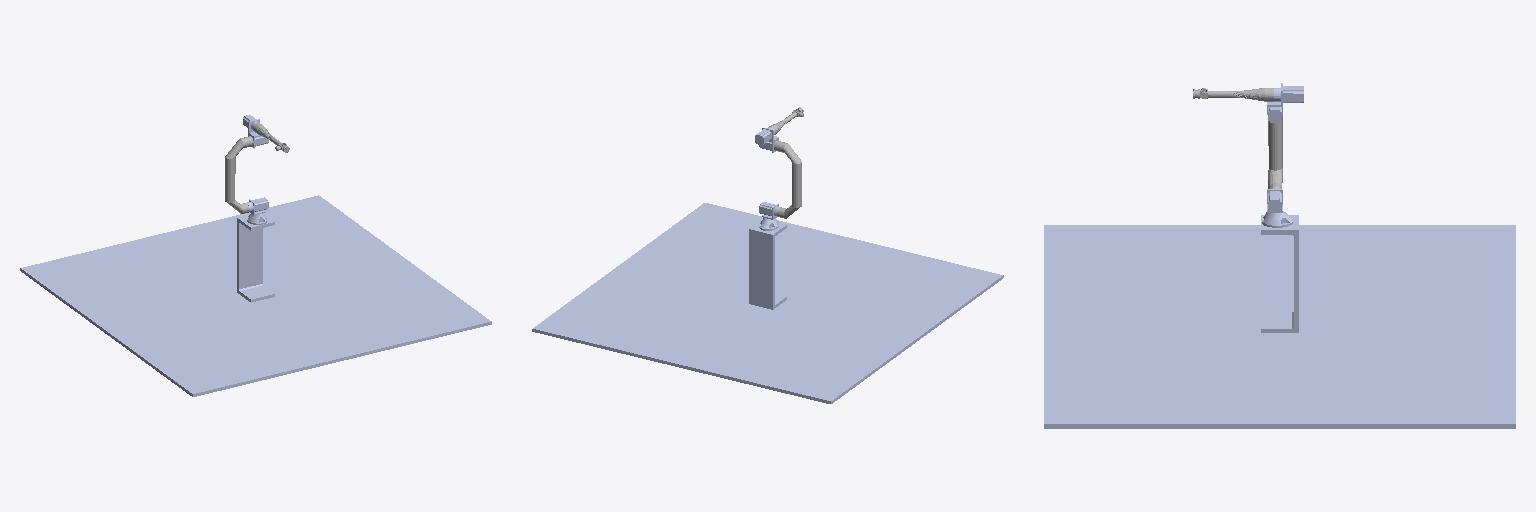
The robot description file, URDF, robot "robot_2":
<?xml version="1.0" encoding="utf-8"?>
<!-- This URDF was automatically created by SolidWorks to URDF Exporter! Originally created by [author] ([email redacted]) 
     Commit Version: 1.6.0-1-g15f4949  Build Version: 1.6.7594.29634
     For more information, please see http://wiki.ros.org/sw_urdf_exporter -->
<robot
  name="robot_2">
  <link
    name="dummy_link">
  </link>
  <joint
    name="dummy_joint"
    type="fixed">
    <parent
      link="dummy_link" />
    <child
      link="base_link" />
  </joint>
  <link
    name="base_link">
    <inertial>
      <origin
        xyz="0.199991524201748 0.0978846512027021 -1.15089239456676"
        rpy="0 0 0" />
      <mass
        value="1285.77081081309" />
      <inertia
        ixx="2612.41695533956"
        ixy="0.000129752526662198"
        ixz="-5.93323683944549E-06"
        iyy="2612.41595630757"
        iyz="0.000881741481822259"
        izz="5209.18326558497" />
    </inertial>
    <visual>
      <origin
        xyz="0 0 0"
        rpy="0 0 0" />
      <geometry>
        <mesh
          filename="package://robot_2/meshes/base_link.STL" />
      </geometry>
      <material
        name="">
        <color
          rgba="0.792156862745098 0.819607843137255 0.933333333333333 1" />
      </material>
    </visual>
    <collision>
      <origin
        xyz="0 0 0"
        rpy="0 0 0" />
      <geometry>
        <mesh
          filename="package://robot_2/meshes/base_link.STL" />
      </geometry>
    </collision>
  </link>
  <link
    name="link_1">
    <inertial>
      <origin
        xyz="0.00142781025541766 0.152650359233773 -5.03325046305667E-05"
        rpy="0 0 0" />
      <mass
        value="0.0717007293382213" />
      <inertia
        ixx="0.0426432231205356"
        ixy="-0.000893692047635503"
        ixz="-5.25646044606028E-05"
        iyy="0.0517783075494645"
        iyz="9.87014974898117E-06"
        izz="0.0695152473459704" />
    </inertial>
    <visual>
      <origin
        xyz="0 0 0"
        rpy="0 0 0" />
      <geometry>
        <mesh
          filename="package://robot_2/meshes/link_1.STL" />
      </geometry>
      <material
        name="">
        <color
          rgba="0.792156862745098 0.819607843137255 0.933333333333333 1" />
      </material>
    </visual>
    <collision>
      <origin
        xyz="0 0 0"
        rpy="0 0 0" />
      <geometry>
        <mesh
          filename="package://robot_2/meshes/link_1.STL" />
      </geometry>
    </collision>
  </link>
  <joint
    name="joint_0"
    type="revolute">
    <origin
      xyz="0.197975434414304 0.0409754135850279 0.125"
      rpy="1.5707963267949 0 -0.0141961646811652" />
    <parent
      link="base_link" />
    <child
      link="link_1" />
    <axis
      xyz="0 1 0" />
    <limit
      lower="-3.14159265359"
      upper="3.14159265359"
      effort="10"
      velocity="1" />
  </joint>
  <link
    name="link_2">
    <inertial>
      <origin
        xyz="-0.278731912490386 0.511249853624414 8.82448619378418E-07"
        rpy="0 0 0" />
      <mass
        value="0.233631192418631" />
      <inertia
        ixx="3.09285528152063"
        ixy="0.0765152499316044"
        ixz="-5.58945952408227E-06"
        iyy="0.297247362416465"
        iyz="-4.12461858751302E-06"
        izz="3.32441305908094" />
    </inertial>
    <visual>
      <origin
        xyz="0 0 0"
        rpy="0 0 0" />
      <geometry>
        <mesh
          filename="package://robot_2/meshes/link_2.STL" />
      </geometry>
      <material
        name="">
        <color
          rgba="0.752941176470588 0.752941176470588 0.752941176470588 1" />
      </material>
    </visual>
    <collision>
      <origin
        xyz="0 0 0"
        rpy="0 0 0" />
      <geometry>
        <mesh
          filename="package://robot_2/meshes/link_2.STL" />
      </geometry>
    </collision>
  </link>
  <joint
    name="joint_1"
    type="revolute">
    <origin
      xyz="-0.102812251110332 0.179999999999999 -0.000938466230171721"
      rpy="0.00101470073495633 0 0" />
    <parent
      link="link_1" />
    <child
      link="link_2" />
    <axis
      xyz="1 0 0" />
    <limit
      lower="-3.14159265359"
      upper="3.14159265359"
      effort="10"
      velocity="1" />
  </joint>
  <link
    name="link_3">
    <inertial>
      <origin
        xyz="0.0942424116828724 -0.0912703762905391 0.0789384775224746"
        rpy="0 0 0" />
      <mass
        value="0.124367864669111" />
      <inertia
        ixx="0.266028922703057"
        ixy="0.00504883652920089"
        ixz="-0.00553010454728796"
        iyy="0.199765624426901"
        iyz="0.0959423495012982"
        izz="0.186445581672395" />
    </inertial>
    <visual>
      <origin
        xyz="0 0 0"
        rpy="0 0 0" />
      <geometry>
        <mesh
          filename="package://robot_2/meshes/link_3.STL" />
      </geometry>
      <material
        name="">
        <color
          rgba="0.792156862745098 0.819607843137255 0.933333333333333 1" />
      </material>
    </visual>
    <collision>
      <origin
        xyz="0 0 0"
        rpy="0 0 0" />
      <geometry>
        <mesh
          filename="package://robot_2/meshes/link_3.STL" />
      </geometry>
    </collision>
  </link>
  <joint
    name="joint_2"
    type="revolute">
    <origin
      xyz="0 1.05 0"
      rpy="3.13905468566407 0 0" />
    <parent
      link="link_2" />
    <child
      link="link_3" />
    <axis
      xyz="1 0 0" />
    <limit
      lower="-3.14159265359"
      upper="3.14159265359"
      effort="10"
      velocity="1" />
  </joint>
  <link
    name="link_4">
    <inertial>
      <origin
        xyz="-0.00228068068821607 1.26202119865582E-08 0.241112113607335"
        rpy="0 0 0" />
      <mass
        value="0.0712637915434058" />
      <inertia
        ixx="0.40357161895299"
        ixy="-7.77150489666667E-09"
        ixz="0.00833710139137273"
        iyy="0.405044789096908"
        iyz="-2.69191660979703E-08"
        izz="0.0140999712772067" />
    </inertial>
    <visual>
      <origin
        xyz="0 0 0"
        rpy="0 0 0" />
      <geometry>
        <mesh
          filename="package://robot_2/meshes/link_4.STL" />
      </geometry>
      <material
        name="">
        <color
          rgba="0.752941176470588 0.752941176470588 0.752941176470588 1" />
      </material>
    </visual>
    <collision>
      <origin
        xyz="0 0 0"
        rpy="0 0 0" />
      <geometry>
        <mesh
          filename="package://robot_2/meshes/link_4.STL" />
      </geometry>
    </collision>
  </link>
  <joint
    name="joint_3"
    type="revolute">
    <origin
      xyz="0.10031225111033 -0.19 0"
      rpy="-3.14159265358979 0 -0.0555199606814492" />
    <parent
      link="link_3" />
    <child
      link="link_4" />
    <axis
      xyz="0 0 1" />
    <limit
      lower="-3.14159265359"
      upper="3.14159265359"
      effort="10"
      velocity="1" />
  </joint>
  <link
    name="link_5">
    <inertial>
      <origin
        xyz="0 -2.22044604925031E-16 0.0535037023046382"
        rpy="0 0 0" />
      <mass
        value="0.00410143744348641" />
      <inertia
        ixx="0.000501282840980911"
        ixy="-5.1016364279208E-20"
        ixz="-3.02814278643412E-19"
        iyy="0.000469194860812957"
        iyz="-1.48336644887909E-19"
        izz="0.000392262342255872" />
    </inertial>
    <visual>
      <origin
        xyz="0 0 0"
        rpy="0 0 0" />
      <geometry>
        <mesh
          filename="package://robot_2/meshes/link_5.STL" />
      </geometry>
      <material
        name="">
        <color
          rgba="0.752941176470588 0.752941176470588 0.752941176470588 1" />
      </material>
    </visual>
    <collision>
      <origin
        xyz="0 0 0"
        rpy="0 0 0" />
      <geometry>
        <mesh
          filename="package://robot_2/meshes/link_5.STL" />
      </geometry>
    </collision>
  </link>
  <joint
    name="joint_4"
    type="revolute">
    <origin
      xyz="0 0 0.754061533769819"
      rpy="0.00370741492416739 0 0" />
    <parent
      link="link_4" />
    <child
      link="link_5" />
    <axis
      xyz="1 0 0" />
    <limit
      lower="-3.14159265359"
      upper="3.14159265359"
      effort="10"
      velocity="1" />
  </joint>
  <link
    name="link_6">
    <inertial>
      <origin
        xyz="1.85962356624714E-15 4.44089209850063E-16 0.0269596620158578"
        rpy="0 0 0" />
      <mass
        value="0.00155499520551161" />
      <inertia
        ixx="0.0001031660616218"
        ixy="-2.79218951670337E-20"
        ixz="-2.72215213423851E-19"
        iyy="0.0001031660616218"
        iyz="-3.85241172323096E-19"
        izz="0.000183713178135651" />
    </inertial>
    <visual>
      <origin
        xyz="0 0 0"
        rpy="0 0 0" />
      <geometry>
        <mesh
          filename="package://robot_2/meshes/link_6.STL" />
      </geometry>
      <material
        name="">
        <color
          rgba="0.752941176470588 0.752941176470588 0.752941176470588 1" />
      </material>
    </visual>
    <collision>
      <origin
        xyz="0 0 0"
        rpy="0 0 0" />
      <geometry>
        <mesh
          filename="package://robot_2/meshes/link_6.STL" />
      </geometry>
    </collision>
  </link>
  <joint
    name="joint_5"
    type="revolute">
    <origin
      xyz="0 0 0.0750579213471817"
      rpy="0 0 -0.301733782140017" />
    <parent
      link="link_5" />
    <child
      link="link_6" />
    <axis
      xyz="0 0 1" />
    <limit
      lower="-3.14159265359"
      upper="3.14159265359"
      effort="10"
      velocity="1" />
  </joint>
  <transmission name="joint_0_trans">
    <type>transmission_interface/SimpleTransmission</type>
    <joint name="joint_0" >
      <hardwareInterface>hardware_interface/EffortJointInterface</hardwareInterface>
    </joint>
    <actuator name="joint_0_motor">
      <mechanicalReduction>2</mechanicalReduction>
    </actuator>    
  </transmission>
  <transmission name="joint_1_trans">
    <type>transmission_interface/SimpleTransmission</type>
    <joint name="joint_1" >
      <hardwareInterface>hardware_interface/EffortJointInterface</hardwareInterface>
    </joint>
    <actuator name="joint_1_motor">
      <mechanicalReduction>2</mechanicalReduction>
    </actuator>    
  </transmission>
  <transmission name="joint_2_trans">
    <type>transmission_interface/SimpleTransmission</type>
    <joint name="joint_2" >
      <hardwareInterface>hardware_interface/EffortJointInterface</hardwareInterface>
    </joint>
    <actuator name="joint_2_motor">
      <mechanicalReduction>2</mechanicalReduction>
    </actuator>    
  </transmission>
  <transmission name="joint_3_trans">
    <type>transmission_interface/SimpleTransmission</type>
    <joint name="joint_3" >
      <hardwareInterface>hardware_interface/EffortJointInterface</hardwareInterface>
    </joint>
    <actuator name="joint_3_motor">
      <mechanicalReduction>2</mechanicalReduction>
    </actuator>    
  </transmission>
  <transmission name="joint_4_trans">
    <type>transmission_interface/SimpleTransmission</type>
    <joint name="joint_4" >
      <hardwareInterface>hardware_interface/EffortJointInterface</hardwareInterface>
    </joint>
    <actuator name="joint_4_motor">
      <mechanicalReduction>2</mechanicalReduction>
    </actuator>    
  </transmission>
  <transmission name="joint_5_trans">
    <type>transmission_interface/SimpleTransmission</type>
    <joint name="joint_5" >
      <hardwareInterface>hardware_interface/EffortJointInterface</hardwareInterface>
    </joint>
    <actuator name="joint_5_motor">
      <mechanicalReduction>2</mechanicalReduction>
    </actuator>    
  </transmission>

  <gazebo>
		<plugin name="gazebo_ros_control" filename="libgazebo_ros_control.so">
			<robotNamespace>/robot_2</robotNamespace>
			<!-- <robotSimType>gazebo_ros_control/DefaultRobotHWSim</robotSimType> -->
			<legacyModeNS>true</legacyModeNS>
		</plugin>
	</gazebo>
</robot>

--- Render facts (derived) ---
The picture shows the robot from 3 angles, left to right: view 1: azimuth 30°, elevation 25°; view 2: azimuth 150°, elevation 25°; view 3: azimuth 270°, elevation 25°; orthographic projection.
Robot: robot_2 — 8 links, 7 joints (6 revolute, 1 fixed); root link dummy_link; default pose: all joints at 0.
Links seen in each view (by area): view 1: base_link, link_2; view 2: base_link, link_2; view 3: base_link, link_2, link_3, link_4.
Link boxes in pixels (x1,y1,x2,y2): base_link: (20, 195, 491, 396); link_2: (225, 136, 253, 213); base_link: (532, 203, 1003, 403); link_2: (774, 141, 801, 218); base_link: (1044, 211, 1515, 428); link_2: (1268, 115, 1282, 188); link_3: (1267, 83, 1303, 122); link_4: (1201, 88, 1273, 101).
Size in the robot's own frame: 5 by 5 by 2.83 metres.
7 mesh visuals loaded from 7 distinct referenced files (7 binary STL).